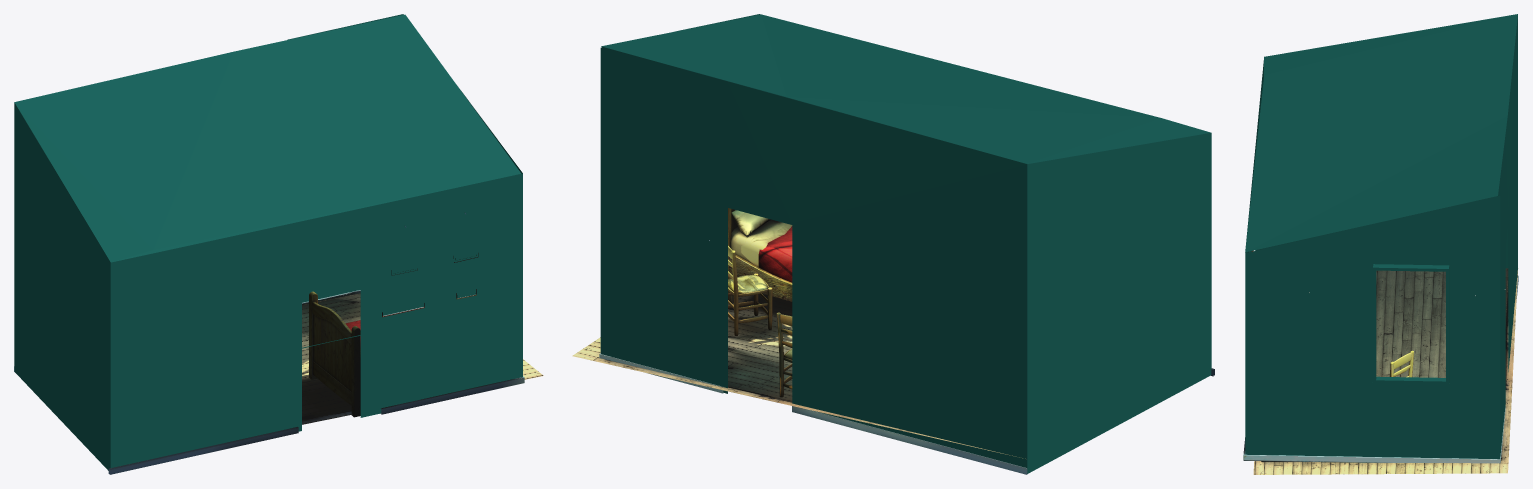
The model's file is texturas.obj.
The picture shows the model from 3 angles, left to right: view 1: azimuth 30°, elevation 25°; view 2: azimuth 150°, elevation 25°; view 3: azimuth 270°, elevation 25°; orthographic projection. The views are drawn at different scales.
Parts seen in each view (by area): view 1: walls, bad, FLOOR, rest; view 2: walls, FLOOR, bad_for, chair, rest, bad; view 3: walls, FLOOR, rest, chair.
Boxes of the visible parts, x1,y1,x2,y2 form: walls: (14,14,522,470); bad: (309,291,360,417); FLOOR: (302,293,543,424); rest: (14,290,524,474); walls: (600,14,1211,473); FLOOR: (572,294,1025,458); bad_for: (730,210,792,282); chair: (728,246,792,397); rest: (599,353,1214,474); bad: (728,208,792,303); walls: (1245,14,1517,459); FLOOR: (1253,268,1518,474); rest: (1243,275,1518,463); chair: (1390,350,1413,377).
Size of the model in its own units: 12.87 by 7.77 by 7.13.
8 materials, 7 textured.
